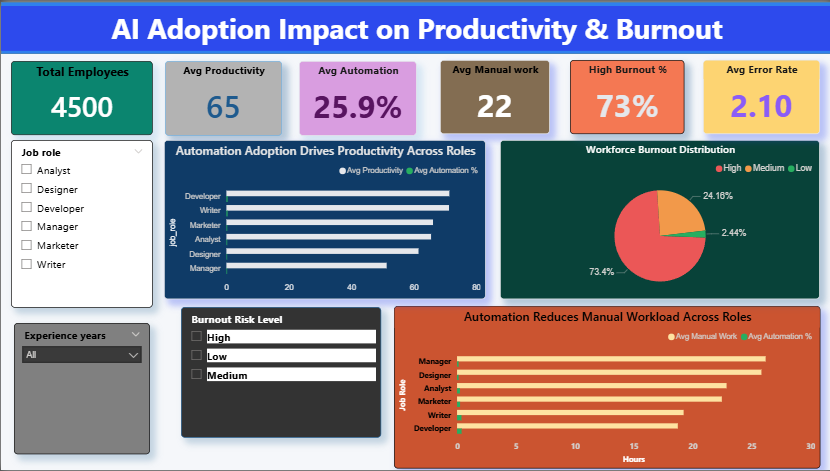

The dashboard page shown, as its layout file describes it:
{"tool":"powerbi","page":{"name":"Page 1","canvas":[1280,720],"ordinal":0},"visuals":[{"type":"card","title":"Total Employees","fields":{"Values":["ai_productivity and tools usage.Total Employees"]},"box":[0,63,238.3,185.9],"z":0},{"type":"card","title":"Avg Productivity","fields":{"Values":["ai_productivity and tools usage.Avg Productivity"]},"box":[253.3,85.4,164.9,92.9],"z":1000},{"type":"card","title":"Avg Manual work","fields":{"Values":["ai_productivity and tools usage.Avg Manual Work"]},"box":[442.2,85.4,160.4,92.9],"z":2000},{"type":"card","title":"Avg Automation","fields":{"Values":["ai_productivity and tools usage.Avg Automation"]},"box":[629.5,85.4,161.9,92.9],"z":3000},{"type":"clusteredBarChart","fields":{"Category":["ai_productivity and tools usage.job_role"],"Y":["ai_productivity and tools usage.Avg Manual Work","ai_productivity and tools usage.Avg Automation"]},"box":[819.9,395.7,443.7,323.7],"z":4000},{"type":"clusteredBarChart","fields":{"Category":["ai_productivity and tools usage.job_role"],"Y":["ai_productivity and tools usage.Avg Productivity"]},"box":[253.3,215.8,538.1,325.2],"z":5000},{"type":"pieChart","fields":{"Category":["ai_productivity and tools usage.burnout_risk_level"],"Y":["CountNonNull(ai_productivity and tools usage.Employee_ID)"]},"box":[819.9,82.4,443.7,277.3],"z":6000},{"type":"slicer","title":"Experience","fields":{"Values":["ai_productivity and tools usage.experience_years"]},"box":[16.5,260.8,179.9,88.4],"z":7000},{"type":"slicer","fields":{"Values":["ai_productivity and tools usage.burnout_risk_level"]},"box":[10.5,581.5,191.9,124.4],"z":8000},{"type":"slicer","title":"Job Role","fields":{"Values":["ai_productivity and tools usage.job_role"]},"box":[9,371.7,214.3,196.3],"z":9000},{"type":"actionButton","box":[0,0,100,40],"z":10000},{"type":"textbox","box":[253.3,568.1,551.6,151.4],"z":11000},{"type":"textbox","box":[0,0,1280,63],"z":11001}]}

Visuals, with their boxes in screenshot pixels (x1, y1, x2, y2), scaled from the page's 1280x720 canvas onto the 830x471 screenshot:
"Total Employees" card: box(0, 41, 155, 163)
"Avg Productivity" card: box(164, 56, 271, 117)
"Avg Manual work" card: box(287, 56, 391, 117)
"Avg Automation" card: box(408, 56, 513, 117)
clusteredBarChart - ai_productivity and tools usage.job_role x ai_productivity and tools usage.Avg Manual Work: box(532, 259, 819, 470)
clusteredBarChart - ai_productivity and tools usage.job_role x ai_productivity and tools usage.Avg Productivity: box(164, 141, 513, 354)
pieChart - ai_productivity and tools usage.burnout_risk_level x CountNonNull(ai_productivity and tools usage.Employee_ID): box(532, 54, 819, 235)
"Experience" slicer: box(11, 171, 127, 228)
slicer - ai_productivity and tools usage.burnout_risk_level: box(7, 380, 131, 462)
"Job Role" slicer: box(6, 243, 145, 372)
actionButton: box(0, 0, 65, 26)
textbox: box(164, 372, 522, 470)
textbox: box(0, 0, 829, 41)
